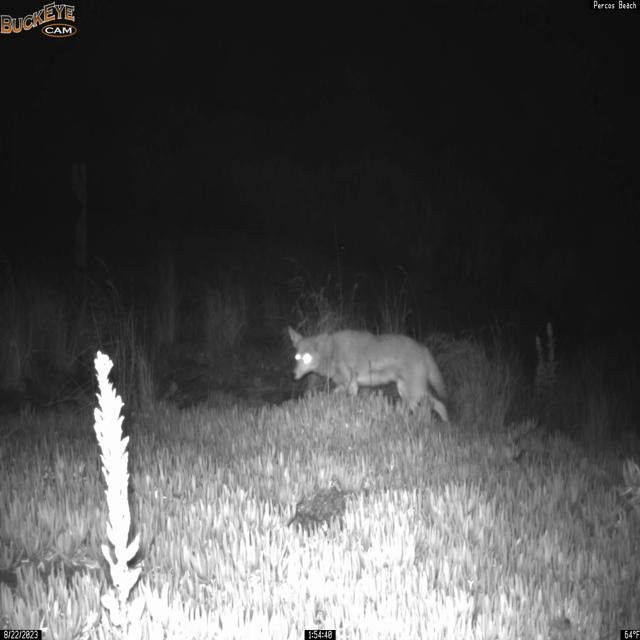coyote: (287, 325, 452, 425)
